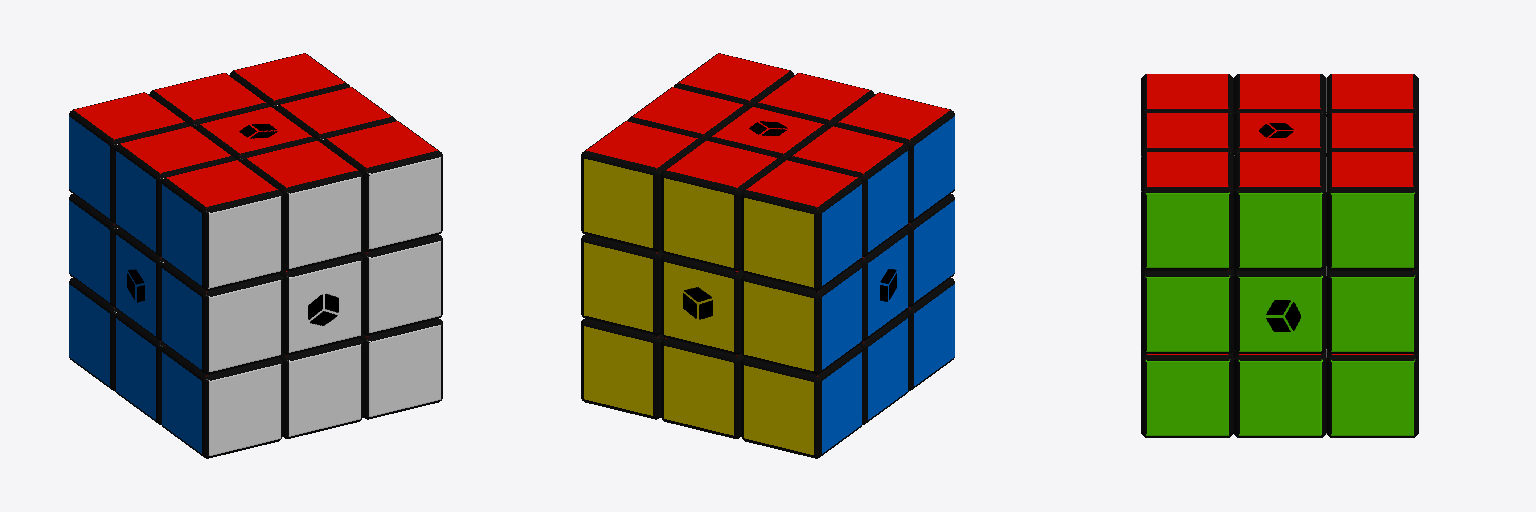
The picture shows the model from 3 angles: view 1: azimuth 30°, elevation 25°; view 2: azimuth 150°, elevation 25°; view 3: azimuth 270°, elevation 25°; orthographic projection.
Visible parts, largest first — view 1: Cubo.020_Cube.021, Cubo.002_Cube.003, Cubo.011_Cube.012, Cubo.026_Cube.027, Cubo.023_Cube.024, Cubo.018_Cube.019, Cubo.019_Cube.020, Cubo.017_Cube.018, Cubo.005_Cube.006, Cubo.014_Cube.015, Cubo.008_Cube.009, Cubo.001_Cube.002 (+7 smaller); view 2: Cubo.018_Cube.019, Cubo_Cube.001, Cubo.009_Cube.010, Cubo.024_Cube.025, Cubo.021_Cube.022, Cubo.020_Cube.021, Cubo.019_Cube.020, Cubo.015_Cube.016, Cubo.003_Cube.004, Cubo.012_Cube.013, Cubo.006_Cube.007, Cubo.001_Cube.002 (+7 smaller); view 3: Cubo.024_Cube.025, Cubo.026_Cube.027, Cubo.025_Cube.026, Cubo.006_Cube.007, Cubo.008_Cube.009, Cubo.015_Cube.016, Cubo.017_Cube.018, Cubo.007_Cube.008, Cubo.016_Cube.017, Cubo.021_Cube.022, Cubo.023_Cube.024, Cubo.018_Cube.019 (+3 smaller).
Part boxes in pixels (x1,y1,x2,y2): Cubo.020_Cube.021: (161, 160, 282, 290); Cubo.002_Cube.003: (161, 345, 282, 458); Cubo.011_Cube.012: (161, 262, 282, 374); Cubo.026_Cube.027: (322, 121, 442, 251); Cubo.023_Cube.024: (242, 141, 362, 270); Cubo.018_Cube.019: (69, 92, 189, 222); Cubo.019_Cube.020: (115, 126, 235, 256); Cubo.017_Cube.018: (360, 235, 442, 335); Cubo.005_Cube.006: (279, 338, 362, 438); Cubo.014_Cube.015: (279, 254, 362, 354); Cubo.008_Cube.009: (360, 319, 442, 419); Cubo.001_Cube.002: (115, 312, 164, 424); Cubo.018_Cube.019: (741, 160, 862, 290); Cubo_Cube.001: (741, 345, 862, 458); Cubo.009_Cube.010: (741, 262, 862, 374); Cubo.024_Cube.025: (581, 121, 701, 251); Cubo.021_Cube.022: (661, 141, 781, 270); Cubo.020_Cube.021: (834, 92, 954, 222); Cubo.019_Cube.020: (788, 126, 908, 256); Cubo.015_Cube.016: (581, 235, 663, 335); Cubo.003_Cube.004: (661, 338, 744, 438); Cubo.012_Cube.013: (661, 254, 744, 354); Cubo.006_Cube.007: (581, 319, 663, 419); Cubo.001_Cube.002: (859, 312, 908, 424); Cubo.024_Cube.025: (1326, 152, 1418, 270); Cubo.026_Cube.027: (1141, 152, 1233, 270); Cubo.025_Cube.026: (1234, 152, 1325, 270); Cubo.006_Cube.007: (1326, 350, 1418, 437); Cubo.008_Cube.009: (1141, 350, 1233, 437); Cubo.015_Cube.016: (1326, 266, 1418, 353); Cubo.017_Cube.018: (1141, 266, 1233, 353); Cubo.007_Cube.008: (1234, 351, 1325, 437); Cubo.016_Cube.017: (1234, 267, 1325, 353); Cubo.021_Cube.022: (1326, 113, 1418, 156); Cubo.023_Cube.024: (1141, 113, 1233, 156); Cubo.018_Cube.019: (1326, 74, 1418, 116).
Bounding box in the file's own units: 1 × 1 × 1.
Materials: 1 (1 with a texture image).